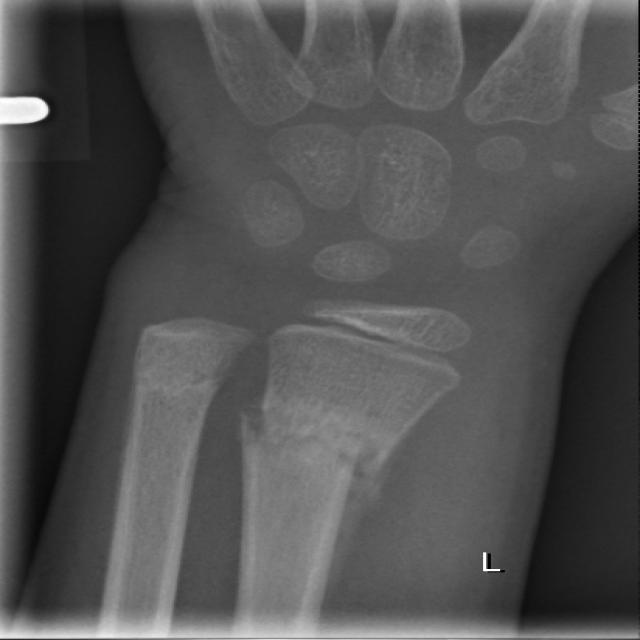radius fracture: (232, 368, 436, 602)
ulna fracture: (112, 309, 239, 536)
